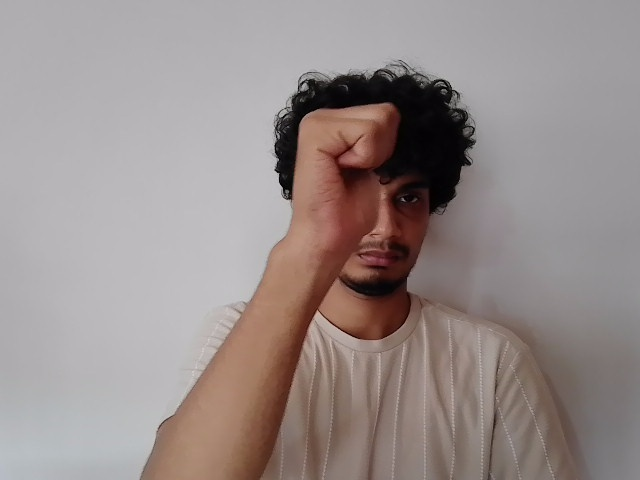how: (289, 103, 399, 253)
